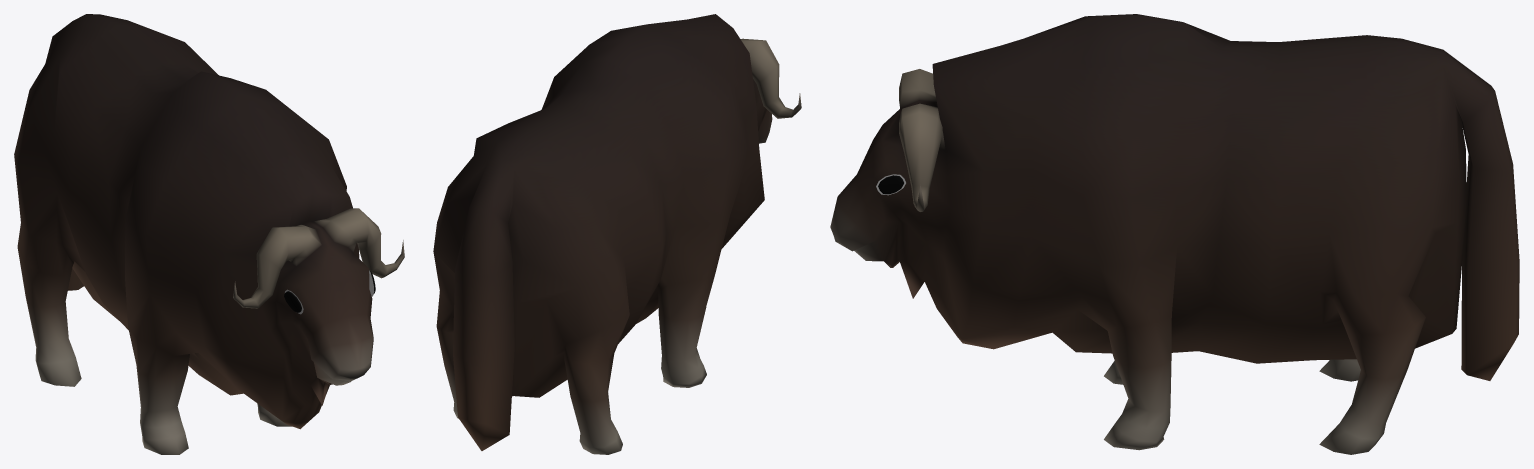
3 renders of one model, left to right at view 1: azimuth 30°, elevation 25°; view 2: azimuth 150°, elevation 25°; view 3: azimuth 270°, elevation 25°, orthographic. The views are drawn at different scales.
Parts seen in each view (by area): view 1: base.068; view 2: base.068; view 3: base.068.
Boxes of the visible parts, x1=… form: base.068: x1=14, y1=14, x2=404, y2=454; base.068: x1=433, y1=14, x2=801, y2=454; base.068: x1=830, y1=14, x2=1519, y2=454.
Bounding box in the file's own units: 0.1887 × 0.3135 × 0.5.
